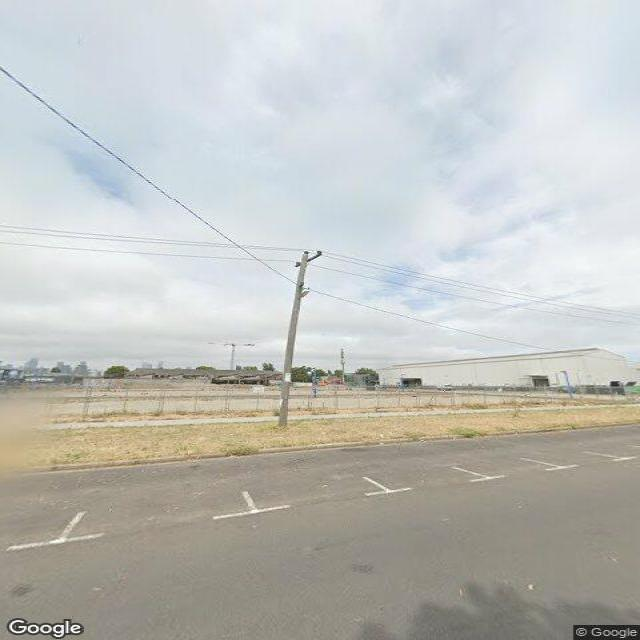crossarm: (294, 250, 325, 269)
timber-pole: (276, 250, 310, 427)
